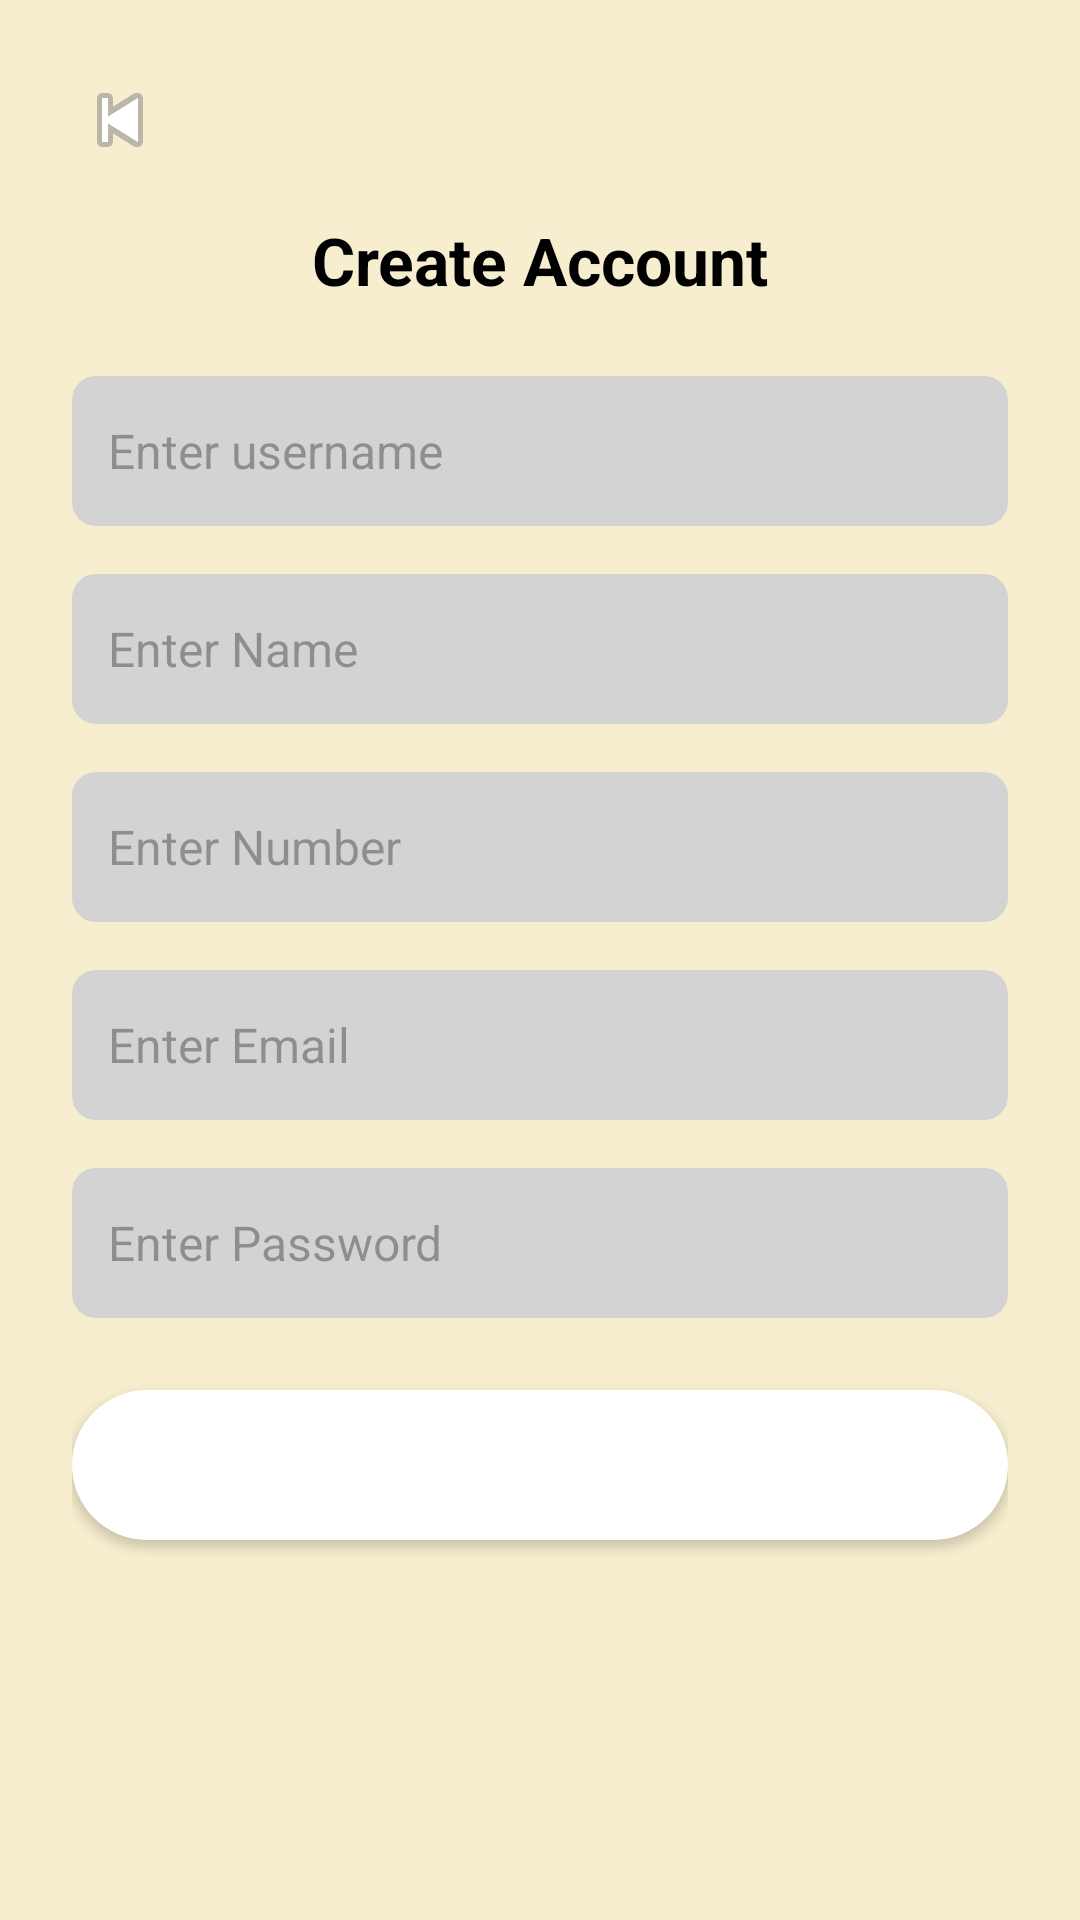

Screen size 1080 x 1920. Icon name, then its box in pixels as (x1, y1, x2, y2):
Back: (97, 93, 143, 147)
